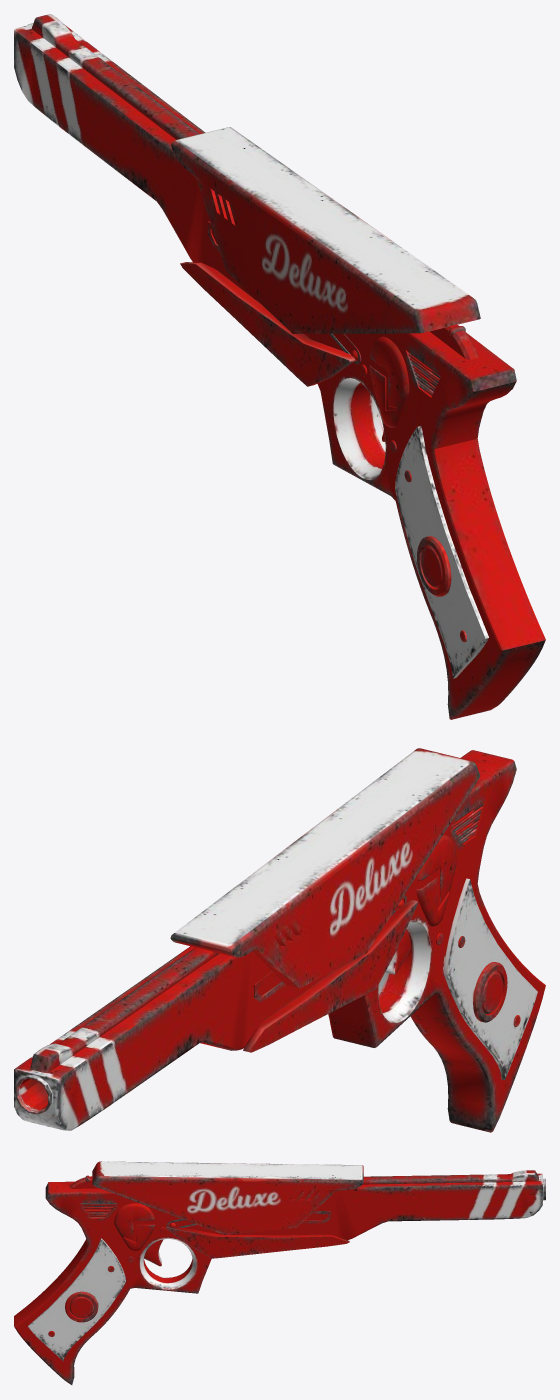
Rendered from Red-Gun-003.gltf.
3 views of the same model, one above another, from view 1: azimuth 30°, elevation 25°; view 2: azimuth 150°, elevation 25°; view 3: azimuth 270°, elevation 25° (orthographic). The views are drawn at different scales.
Visible parts, largest first — view 1: Yellow_gun_normals_correct_obj_1; view 2: Yellow_gun_normals_correct_obj_1; view 3: Yellow_gun_normals_correct_obj_1.
Part boxes in pixels (box(x1,y1,x2,y2)): Yellow_gun_normals_correct_obj_1: box(14, 14, 545, 719); Yellow_gun_normals_correct_obj_1: box(14, 748, 545, 1132); Yellow_gun_normals_correct_obj_1: box(14, 1161, 545, 1384).
Bounding box in the file's own units: 0.5433 × 2.73 × 6.21.
